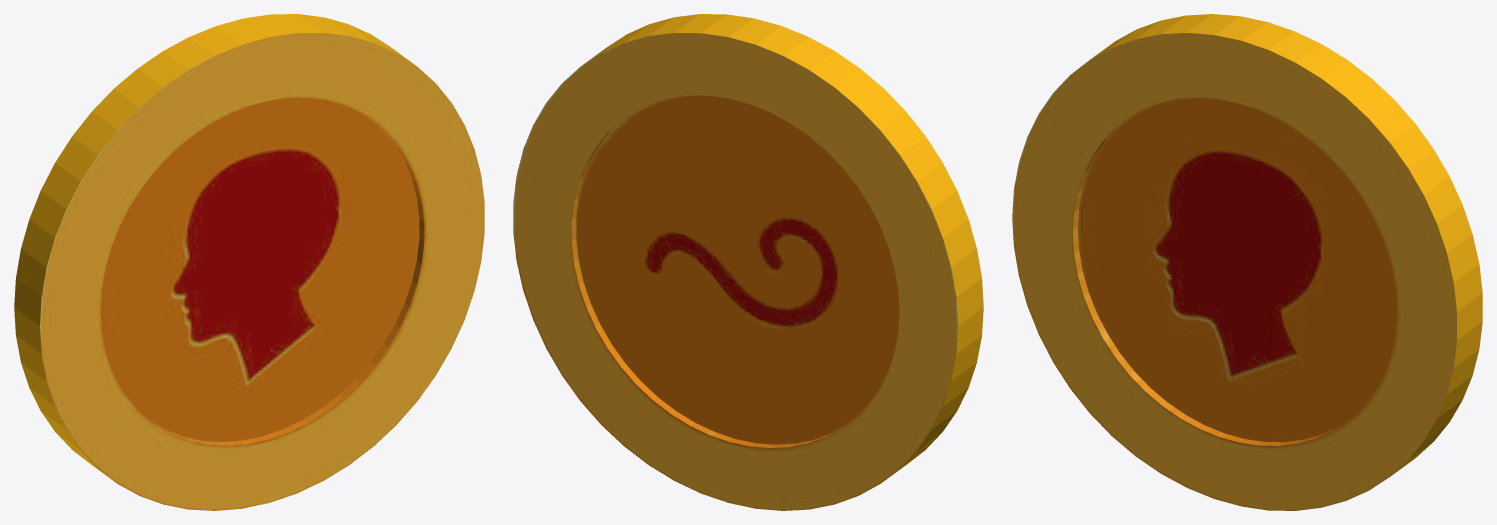
The model's file is goldencoininset.glb.
3 renders of one model, left to right at view 1: azimuth 30°, elevation 25°; view 2: azimuth 150°, elevation 25°; view 3: azimuth 330°, elevation 25°, orthographic.
Visible parts, largest first — view 1: Cylinder; view 2: Cylinder; view 3: Cylinder.
Part boxes in pixels (left/top/right/bottom): Cylinder: left=14, top=14, right=484, bottom=510; Cylinder: left=513, top=14, right=983, bottom=510; Cylinder: left=1012, top=14, right=1482, bottom=510.
Bounding box in the file's own units: 2 × 2 × 0.2.
3 materials, 2 textured.
